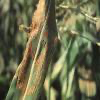Corn rust leaf: (10, 0, 61, 99)
